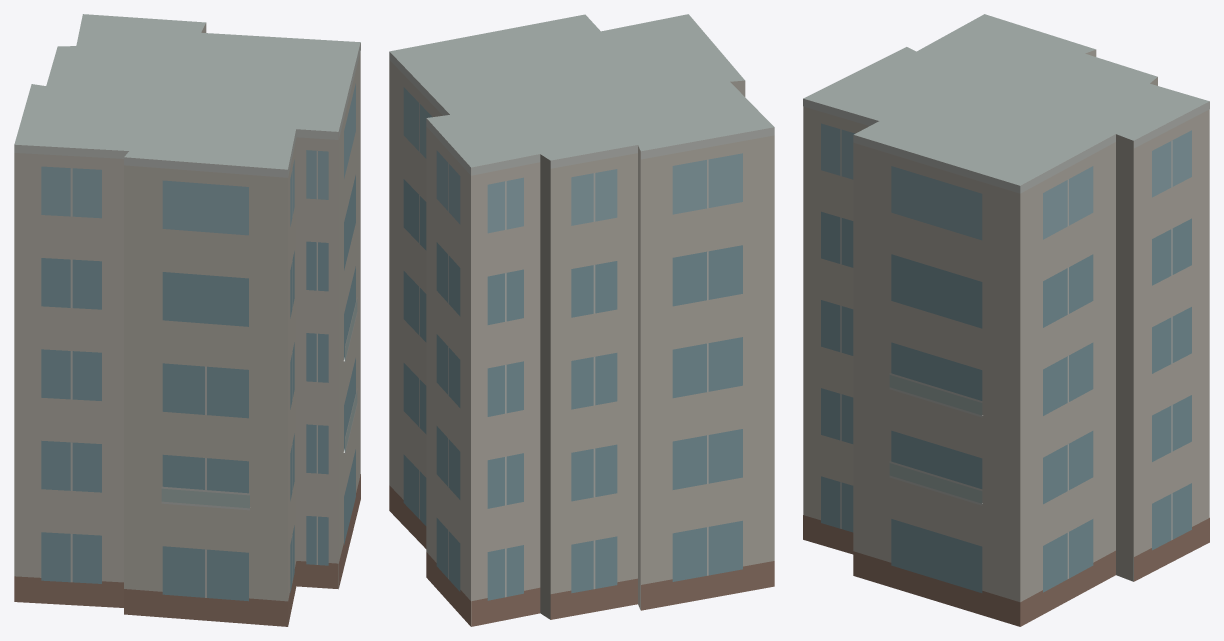
File: survey-upis-32498153.glb
3 views of the same model, side by side, from view 1: azimuth 30°, elevation 25°; view 2: azimuth 150°, elevation 25°; view 3: azimuth 270°, elevation 25° (orthographic). The views are drawn at different scales.
Visible parts, largest first — view 1: survey-upis-32498153.tmp; view 2: survey-upis-32498153.tmp; view 3: survey-upis-32498153.tmp.
Part boxes in pixels (x1,y1,x2,y2): survey-upis-32498153.tmp: [14, 14, 360, 626]; survey-upis-32498153.tmp: [389, 14, 774, 626]; survey-upis-32498153.tmp: [803, 14, 1209, 626].
Size of the model in its own units: 11.45 by 13.7 by 11.46.
